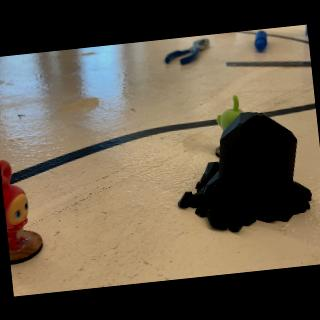teletubby: (0, 160, 29, 251), (216, 95, 243, 130)
